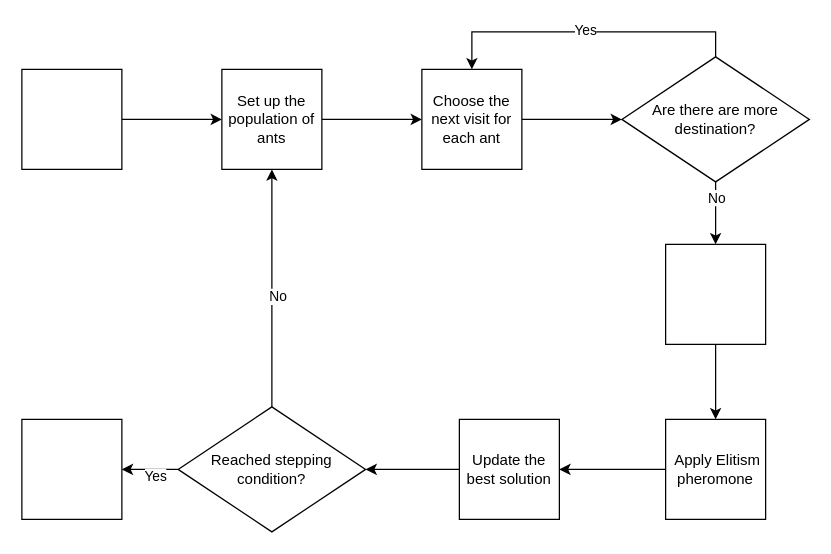
The diagram is 831 pixels wide and 554 high, and some of its shapes have lost their labels. The box of each missing label's shape, as (x1, y1, x2, y2) in pixels:
Initialize the pheromone trails: (21, 68, 122, 169)
Return the best solution: (21, 418, 122, 519)
Update the pheromone trails.: (664, 243, 766, 344)
